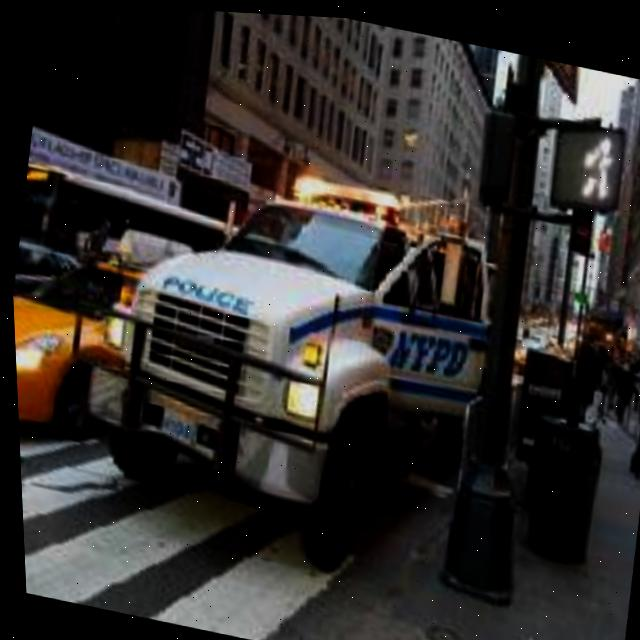emergency: (56, 153, 515, 598)
